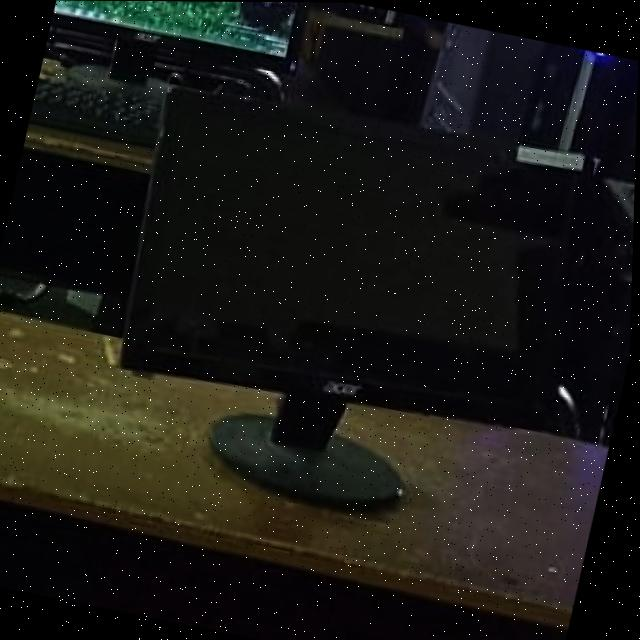offscreen: (133, 91, 596, 404)
onscreen: (59, 0, 294, 62)
